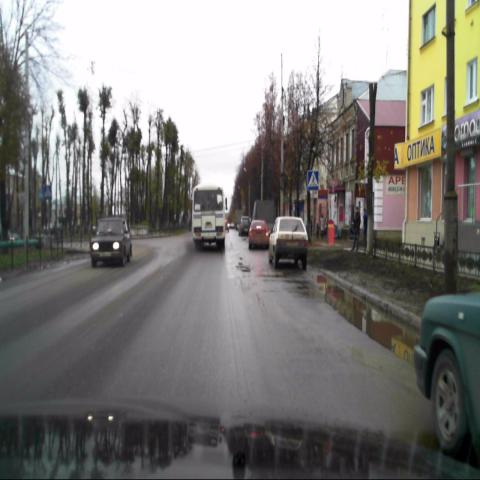5_19_1: (308, 170, 318, 190)
